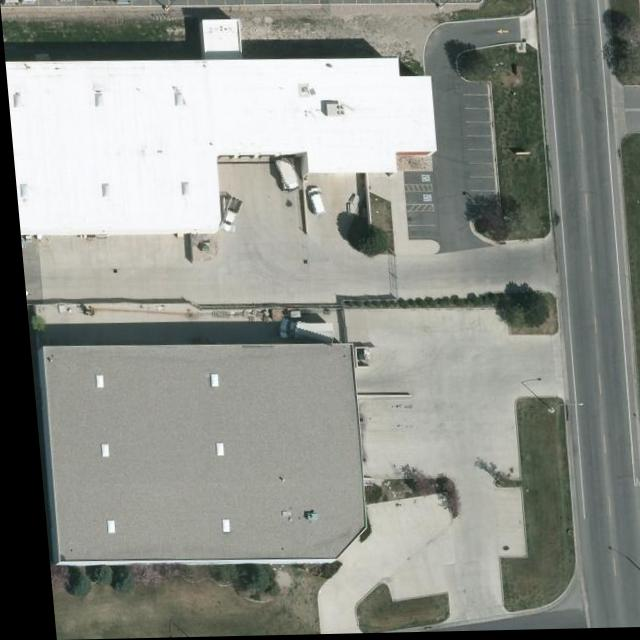vehicle: (272, 321, 329, 345), (272, 156, 298, 195), (214, 198, 238, 235), (305, 190, 323, 218), (637, 613, 640, 625)
